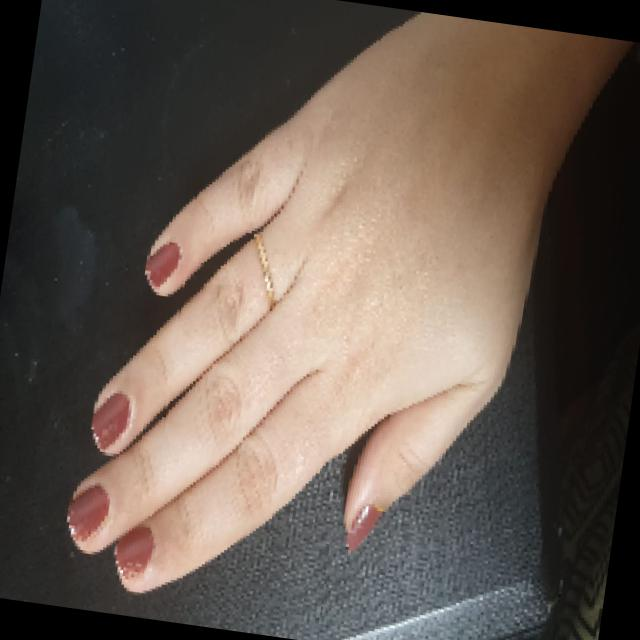Nail: (67, 484, 110, 539), (92, 391, 131, 449), (115, 526, 154, 577), (145, 241, 181, 287), (347, 503, 382, 550)
